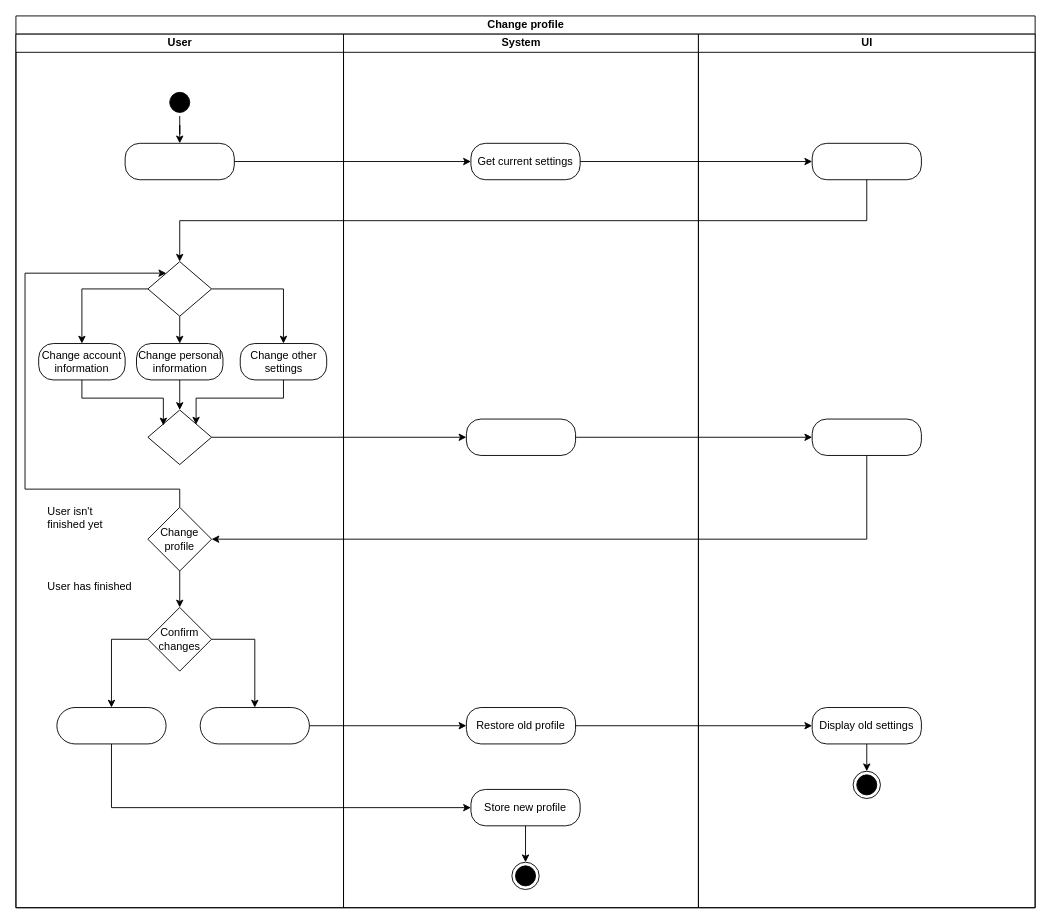
Image size: 1051x924. Some labels were removed from this diagram. The shapes that lost their labels are listed below. From the top down, each one's centre as x and y in pixels, then its label:
point 179,161: Settings menu selected
point 866,161: Display current settings
point 179,288: Choose option
point 520,436: Buffer made changes
point 866,436: Display changed settings
point 111,725: Confirm icon pressed
point 254,725: Abandon icon pressed
